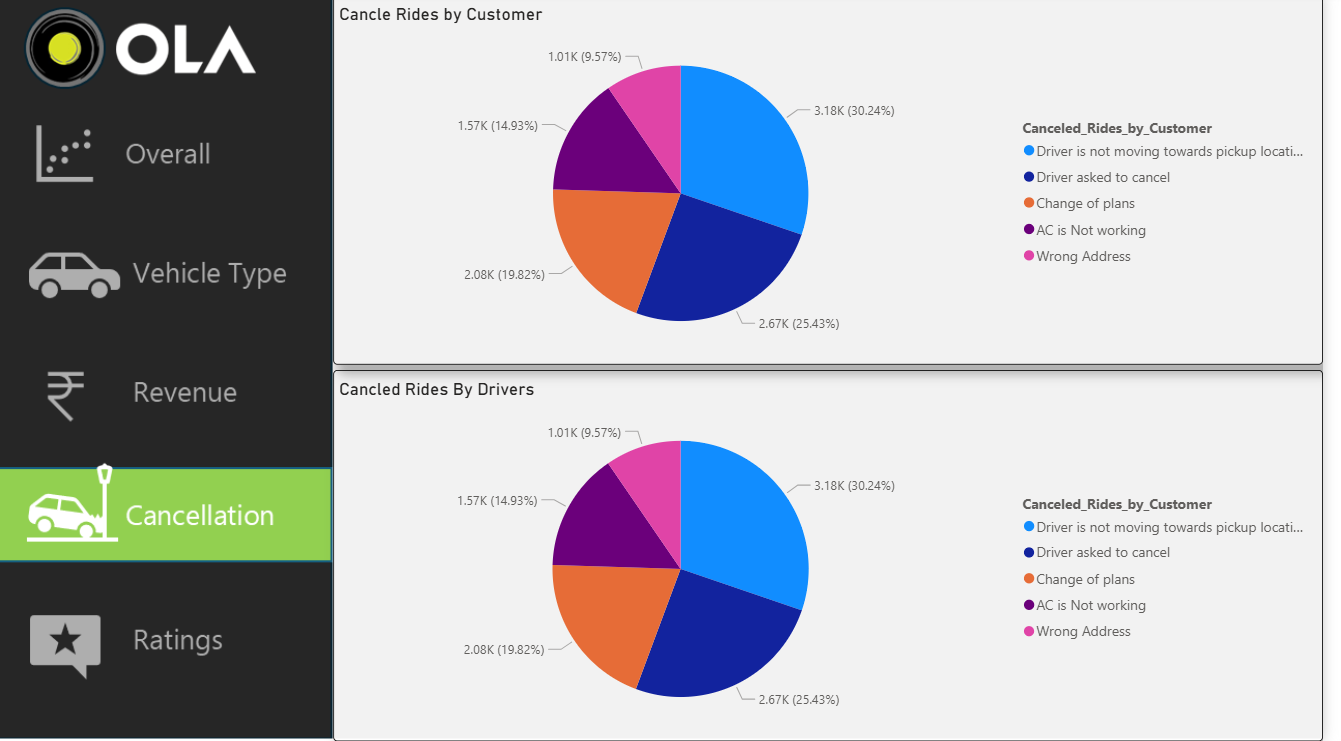

The page's visual inventory and layout, read from the dashboard file:
{"tool":"powerbi","page":{"name":"Cancellation","canvas":[1280,720],"ordinal":3},"visuals":[{"type":"actionButton","box":[0,339,324.5,92.9],"z":0},{"type":"actionButton","box":[0,104.4,324,93.7],"z":1000},{"type":"actionButton","box":[0,574.3,324.5,92.9],"z":2000},{"type":"actionButton","box":[0,231.6,324.5,92.9],"z":3000},{"type":"pieChart","title":"Cancle Rides by Customer","fields":{"Category":["Bookings-100000-Rows (1).Canceled_Rides_by_Customer"],"Y":["CountNonNull(Bookings-100000-Rows (1).Canceled_Rides_by_Customer)"]},"box":[324.5,0,955.5,357.1],"z":4000},{"type":"pieChart","title":"Cancled Rides By Drivers","fields":{"Y":["CountNonNull(Bookings-100000-Rows (1).Canceled_Rides_by_Customer)"],"Category":["Bookings-100000-Rows (1).Canceled_Rides_by_Customer"]},"box":[324.5,361.9,955.5,358.3],"z":5000}]}

Visuals, with their boxes on the page's 1280x720 design canvas (x1, y1, x2, y2). These are canvas units, not pixel positions in the 1341x741 screenshot, which may show the page scaled, cropped or inside an application window:
actionButton: locate(0, 339, 324, 432)
actionButton: locate(0, 104, 324, 198)
actionButton: locate(0, 574, 324, 667)
actionButton: locate(0, 232, 324, 324)
"Cancle Rides by Customer" pieChart: locate(324, 0, 1280, 357)
"Cancled Rides By Drivers" pieChart: locate(324, 362, 1280, 720)
